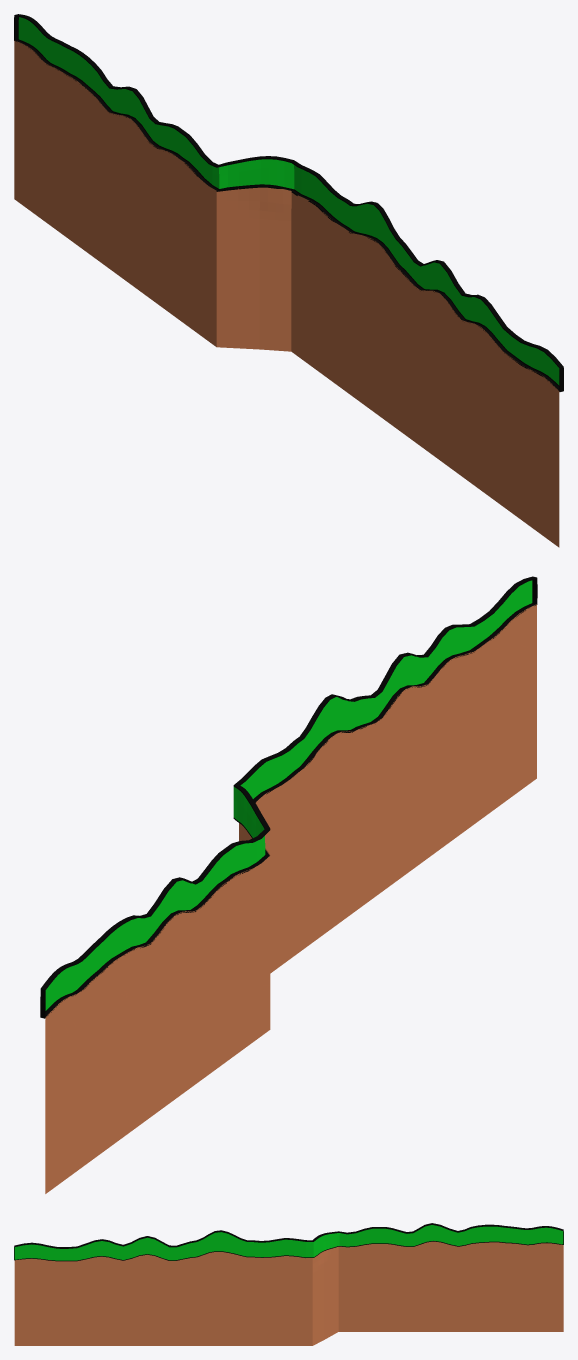
Rendered from Platform08.fbx.
3 views of the same model, one above another, from view 1: azimuth 30°, elevation 25°; view 2: azimuth 150°, elevation 25°; view 3: azimuth 270°, elevation 25° (orthographic). The views are drawn at different scales.
Visible parts, largest first — view 1: Plane.013; view 2: Plane.013; view 3: Plane.013.
Part boxes in pixels (left/top/right/bottom): Plane.013: left=14, top=14, right=563, bottom=547; Plane.013: left=40, top=576, right=537, bottom=1193; Plane.013: left=14, top=1223, right=563, bottom=1345.
Size of the model in its own units: 459 by 1633 by 7040.
